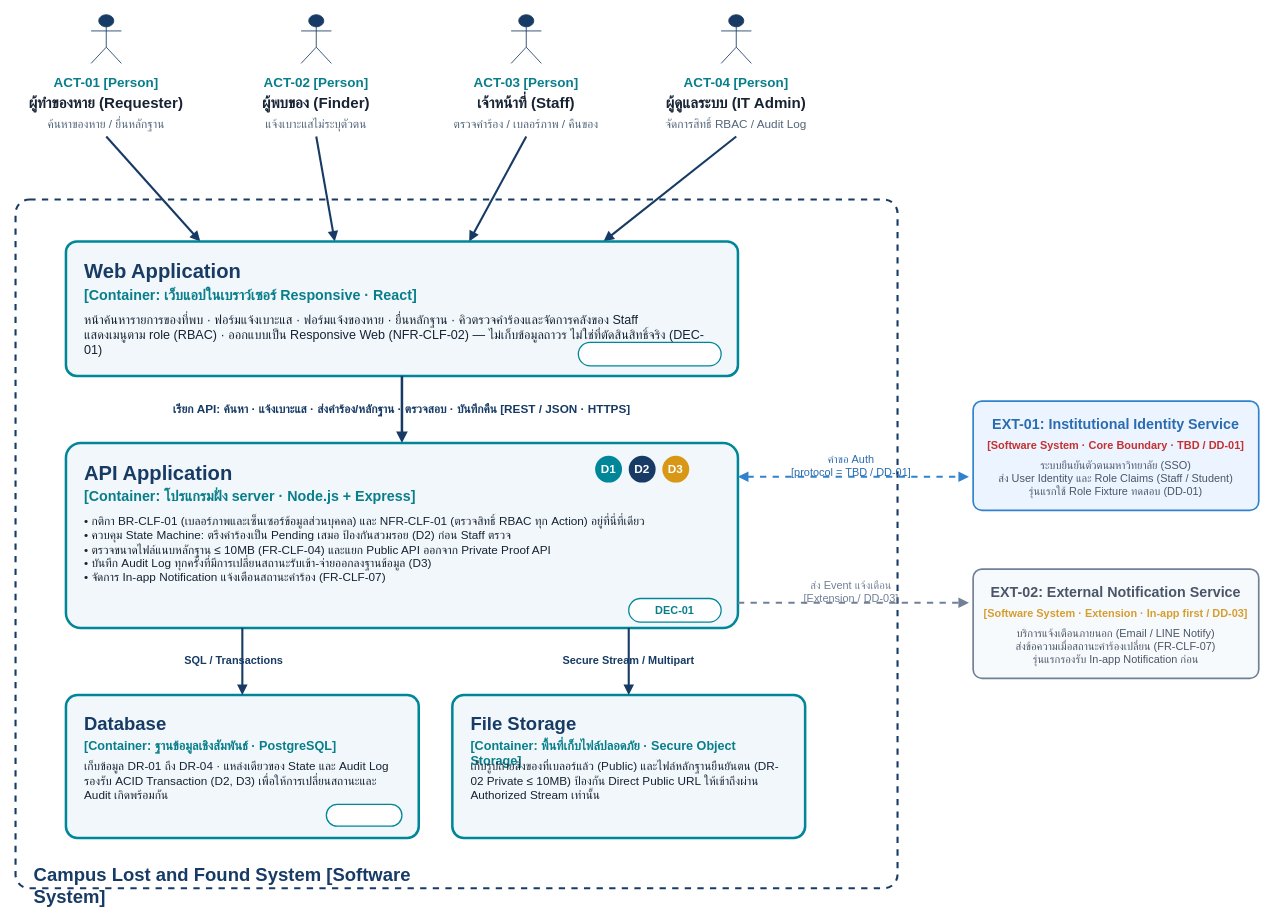
The diagram is 1274 pixels wide and 924 high, and some of its shapes have lost their labels. The centre of each missing label's shape, as x and y in pixels:
"DEC-02" belongs at (363,814).
"หน้าจอออกแบบใน W12" belongs at (649,353).
